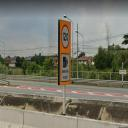speed_limit_120: (60, 21, 70, 49)
